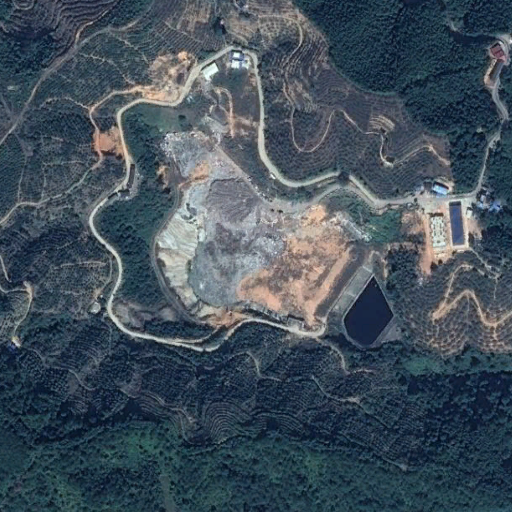lf: (157, 130, 355, 328)
